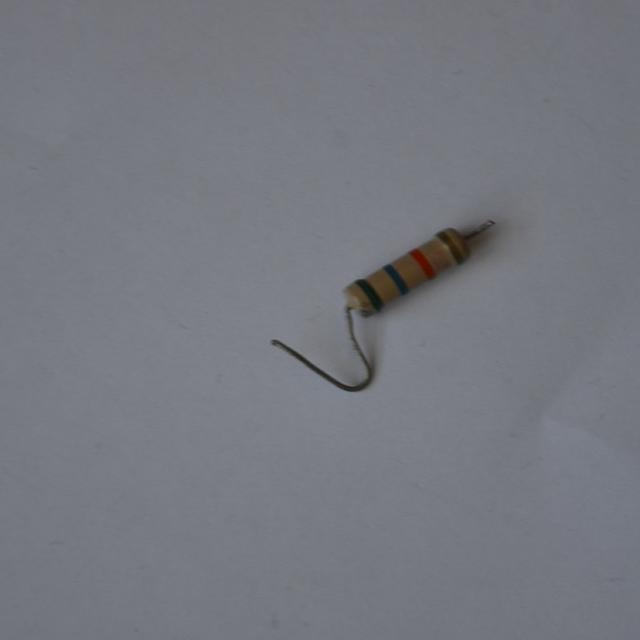blue: (384, 264, 409, 294)
gold: (437, 232, 463, 264)
green: (354, 279, 383, 309)
orange: (411, 249, 433, 277)
resistor: (319, 203, 503, 336)
